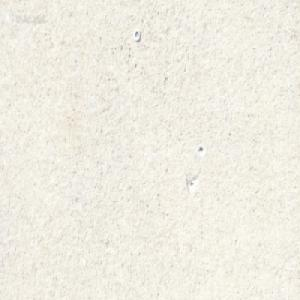Washer: (133, 28, 140, 41)
